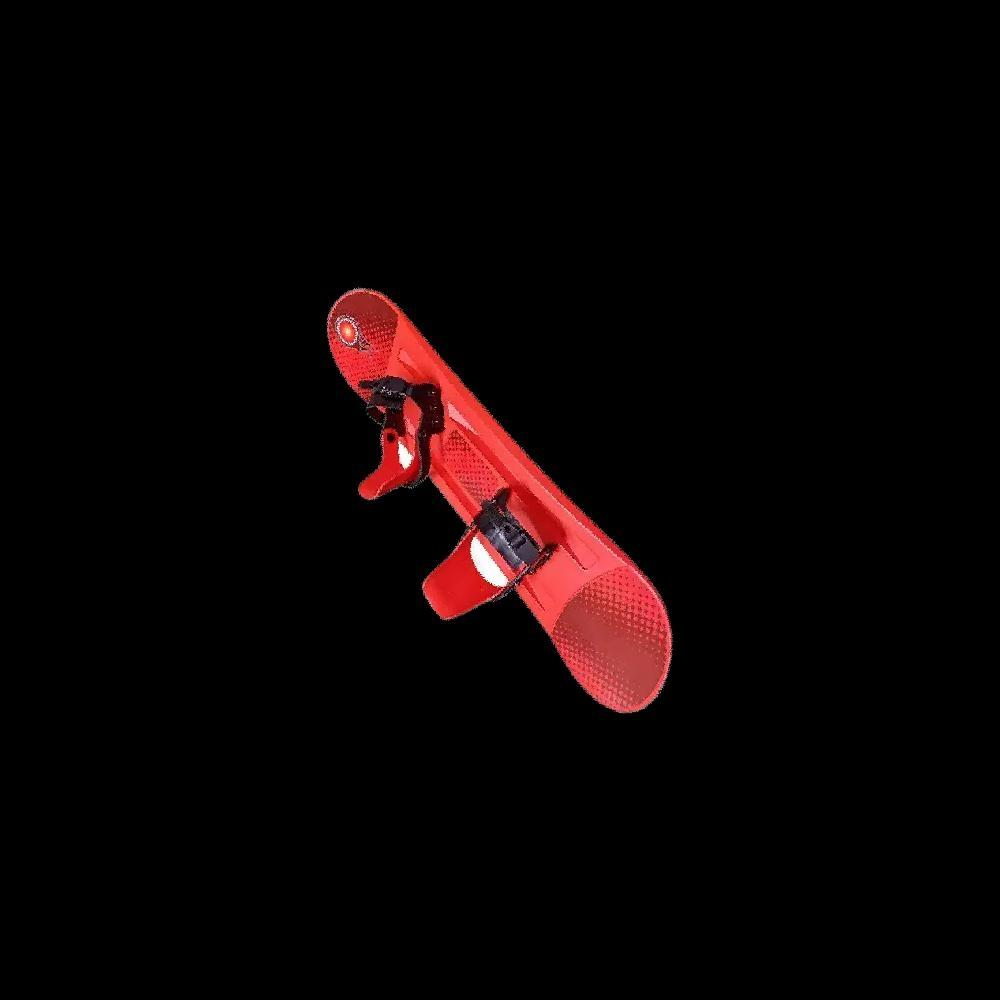Snowboard: (324, 285, 673, 714)
